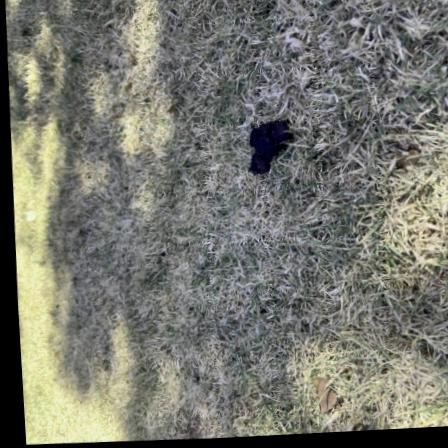dog-poop: (232, 106, 296, 181)
